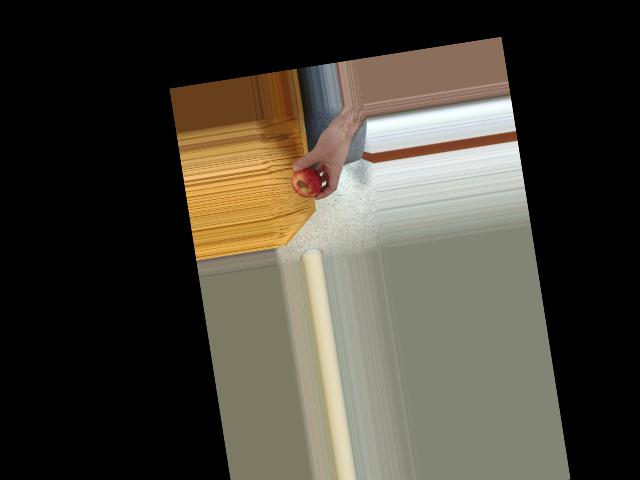apple: (289, 161, 326, 200)
